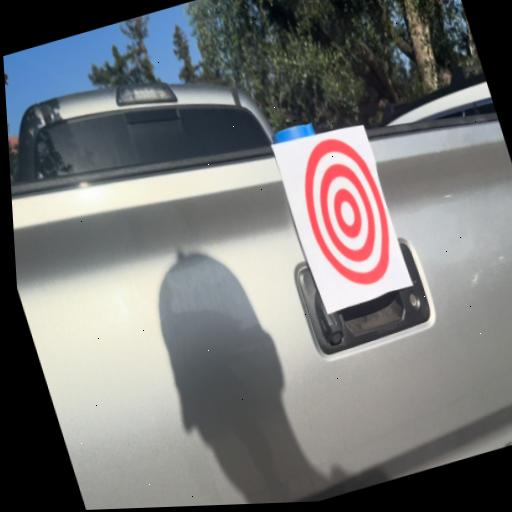bullseye: (289, 126, 413, 311)
